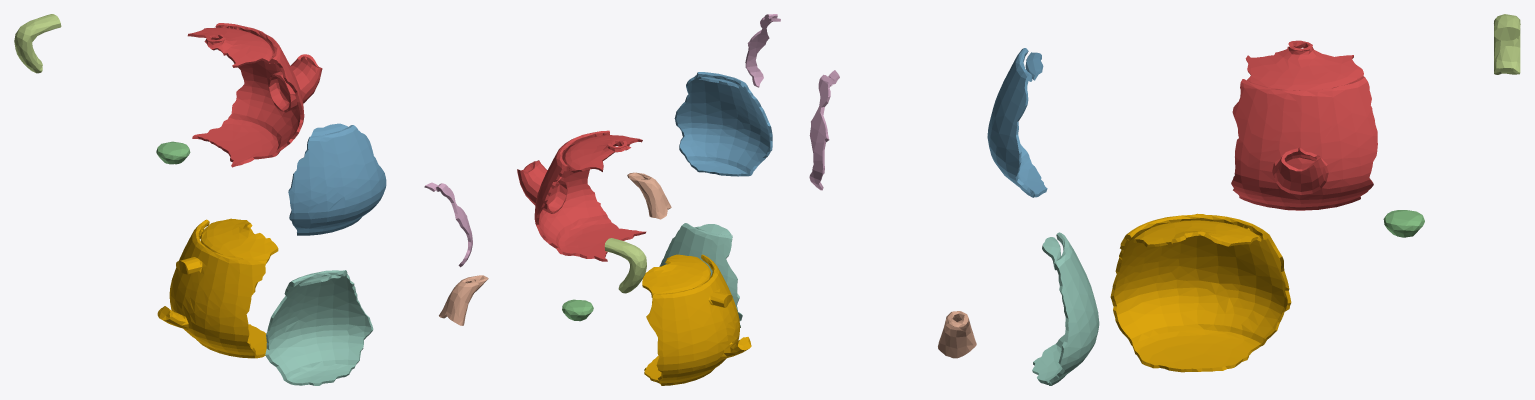
File: mode_7_8pcs_transformed.glb
The picture shows the model from 3 angles, left to right: view 1: azimuth 30°, elevation 25°; view 2: azimuth 150°, elevation 25°; view 3: azimuth 270°, elevation 25°; orthographic projection. The views are drawn at different scales.
Visible parts, largest first — view 1: piece_0.obj, piece_1.obj, piece_4.obj, piece_2.obj, piece_5.obj, piece_7.obj, piece_6.obj, piece_3.obj; view 2: piece_0.obj, piece_1.obj, piece_2.obj, piece_4.obj, piece_5.obj, piece_7.obj, piece_6.obj, piece_3.obj; view 3: piece_0.obj, piece_1.obj, piece_4.obj, piece_2.obj, piece_5.obj, piece_6.obj, piece_7.obj, piece_3.obj.
Boxes of the visible parts, x1,y1,x2,y2 form: piece_0.obj: (157,218,278,358); piece_1.obj: (187,23,322,167); piece_4.obj: (265,270,373,385); piece_2.obj: (288,123,386,235); piece_5.obj: (14,14,61,73); piece_7.obj: (439,275,488,325); piece_6.obj: (424,182,472,267); piece_3.obj: (156,141,190,164); piece_0.obj: (642,254,751,385); piece_1.obj: (517,130,646,261); piece_2.obj: (674,72,772,176); piece_4.obj: (659,223,742,327); piece_5.obj: (604,238,646,293); piece_7.obj: (627,172,671,219); piece_6.obj: (745,14,780,87); piece_3.obj: (562,299,593,321); piece_0.obj: (1110,213,1291,372); piece_1.obj: (1231,40,1377,210); piece_4.obj: (1032,232,1099,385); piece_2.obj: (987,48,1047,197); piece_5.obj: (1494,14,1520,74); piece_6.obj: (809,70,839,190); piece_7.obj: (938,311,976,358); piece_3.obj: (1383,210,1424,237).
Bounding box in the file's own units: 1 × 1.04 × 2.07.
